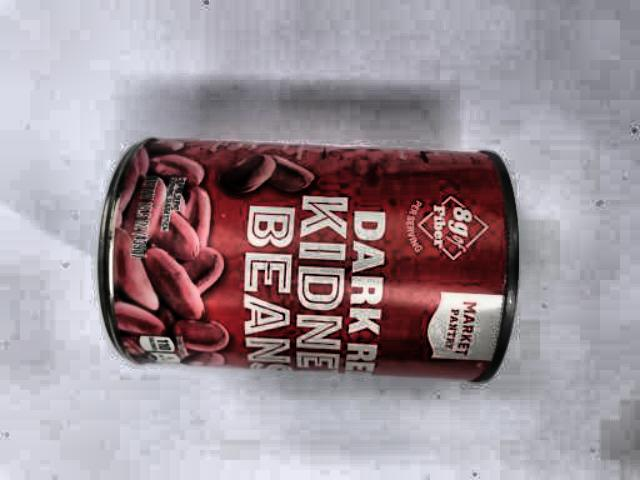Almennt: (98, 116, 528, 404)
